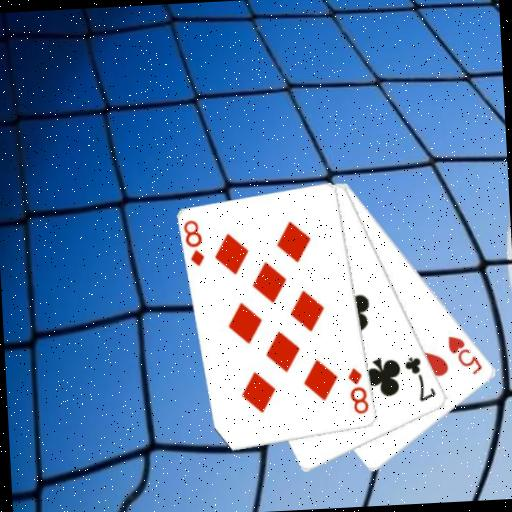5H: (445, 331, 486, 378)
7C: (401, 353, 438, 405)
8D: (345, 365, 371, 417), (181, 217, 207, 269)
